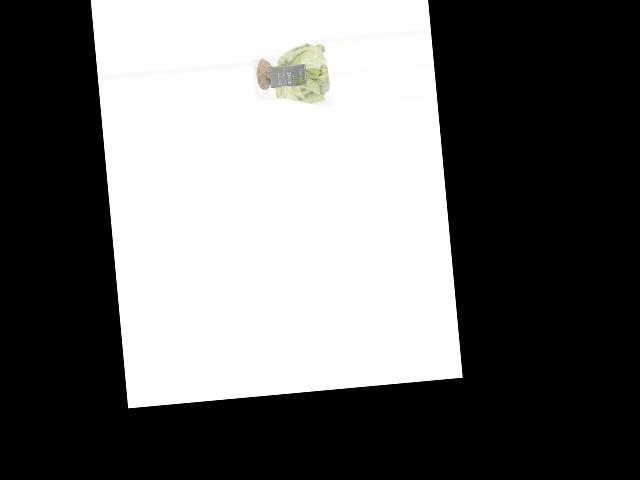lettuce: (249, 39, 332, 111)
